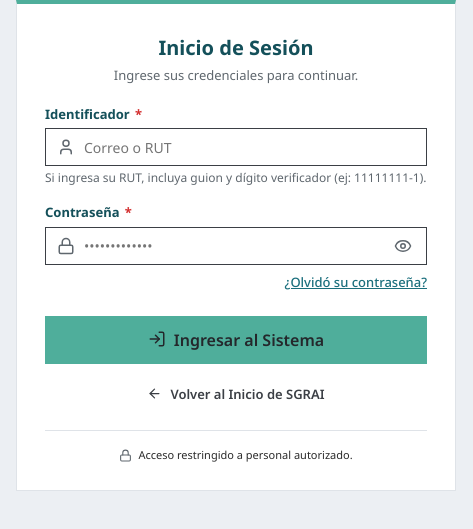
it: LoginForm › debe mostrar errores de validación si se envía el formulario vacío
The width and height of the screenshot is (473, 529).
Click the button "Ingresar al Sistema": (236, 340) [45,316,427,364]
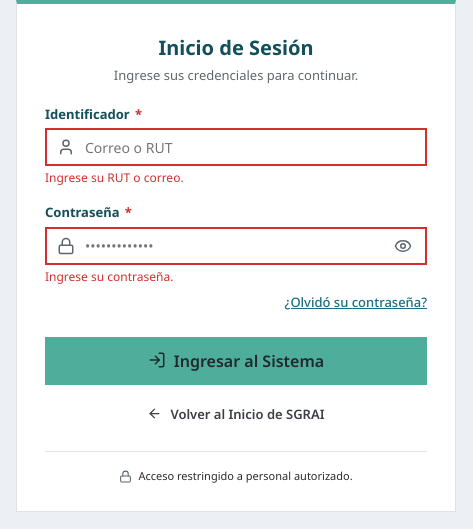
Now the text "Ingrese su RUT o correo." is shown, box [45,169,184,186]
Now the text "Ingrese su contraseña." is shown, box [45,268,173,285]
